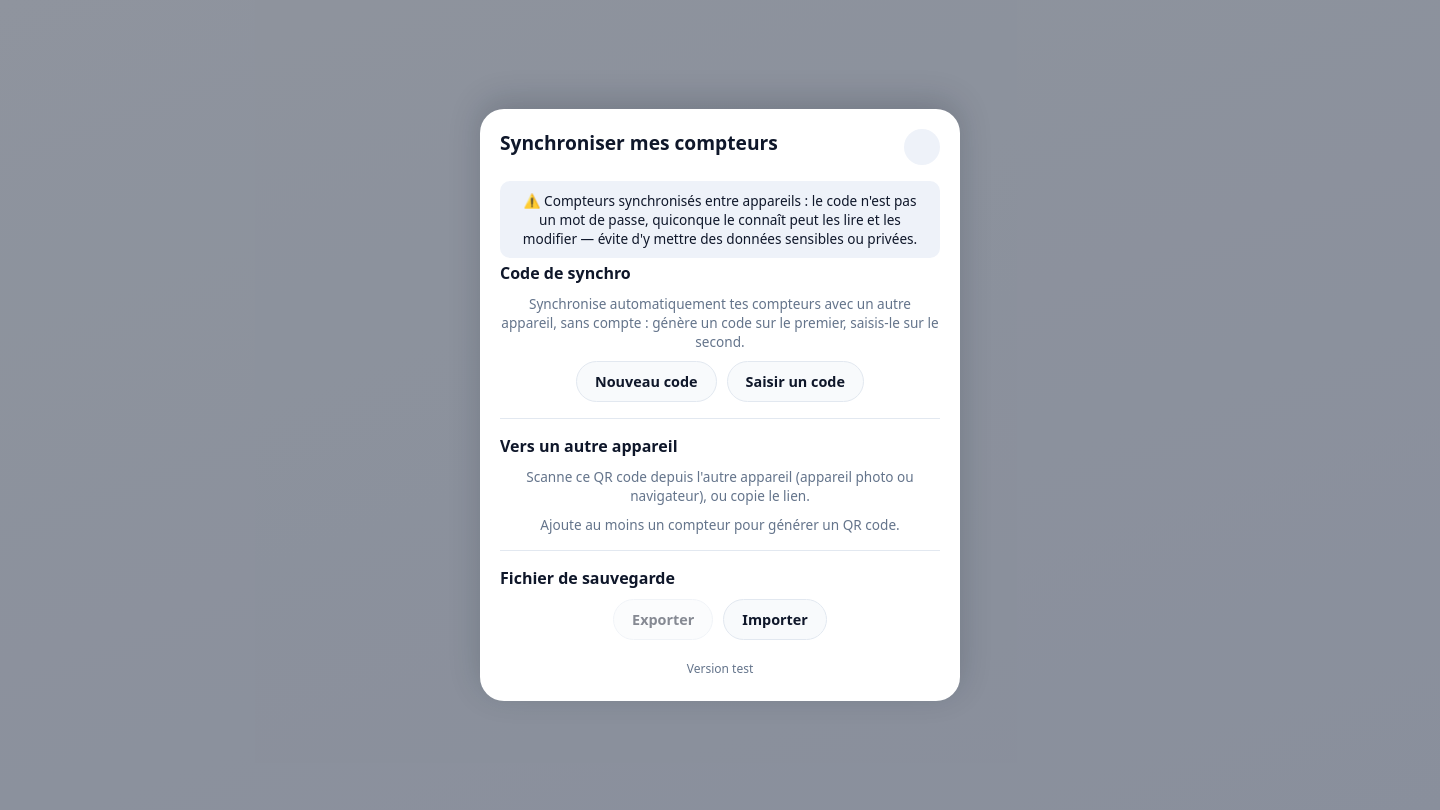
SyncPanel › code de synchro › avec un worker configuré (VITE_SYNC_WORKER_URL) › affiche une erreur adaptée pour l'issue "error"
Click the button "Saisir un code" at coordinates (795, 382), box [727,361,864,402]
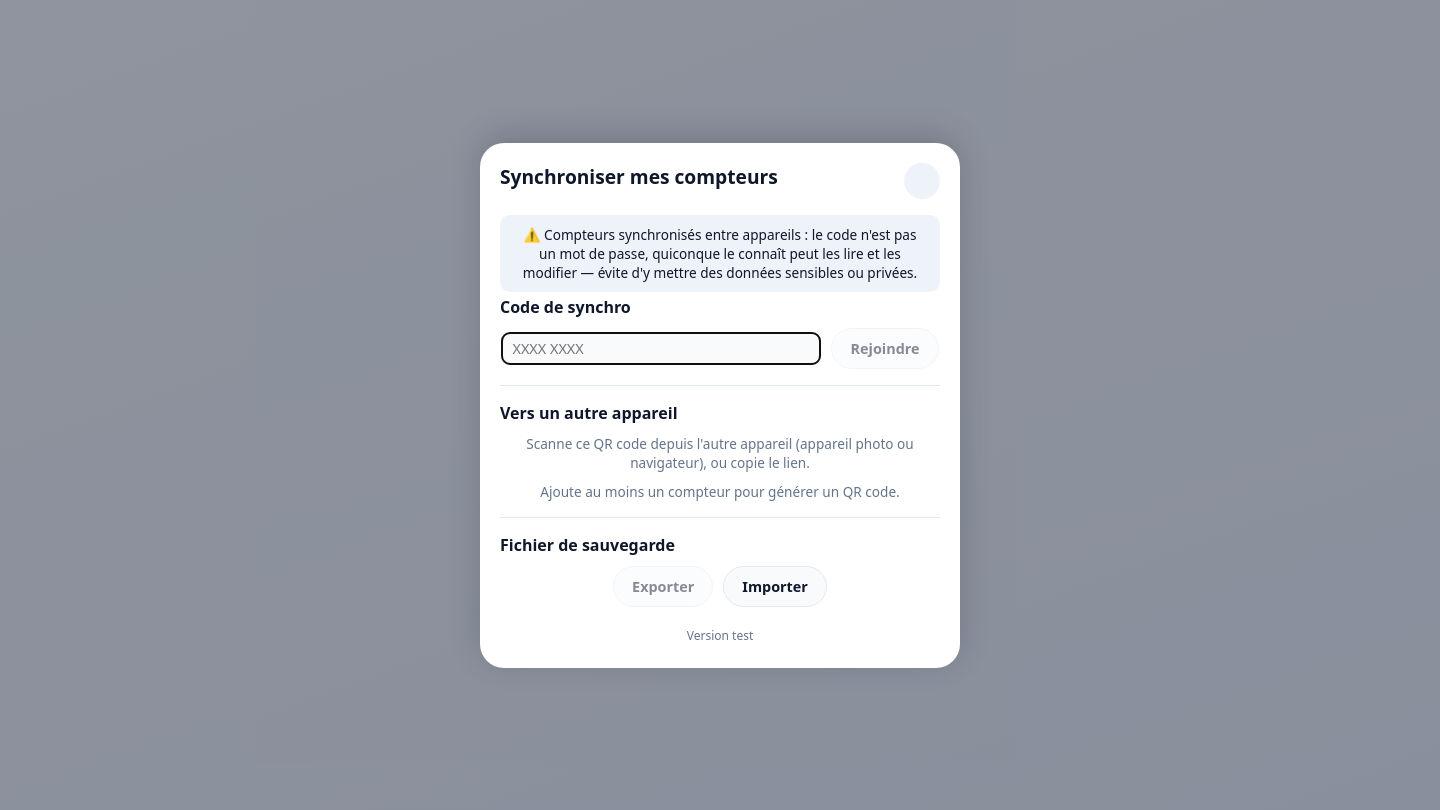
Type "ABCDEFGH" into the field with placeholder "XXXX XXXX" at coordinates (662, 348), box [502,332,822,364]
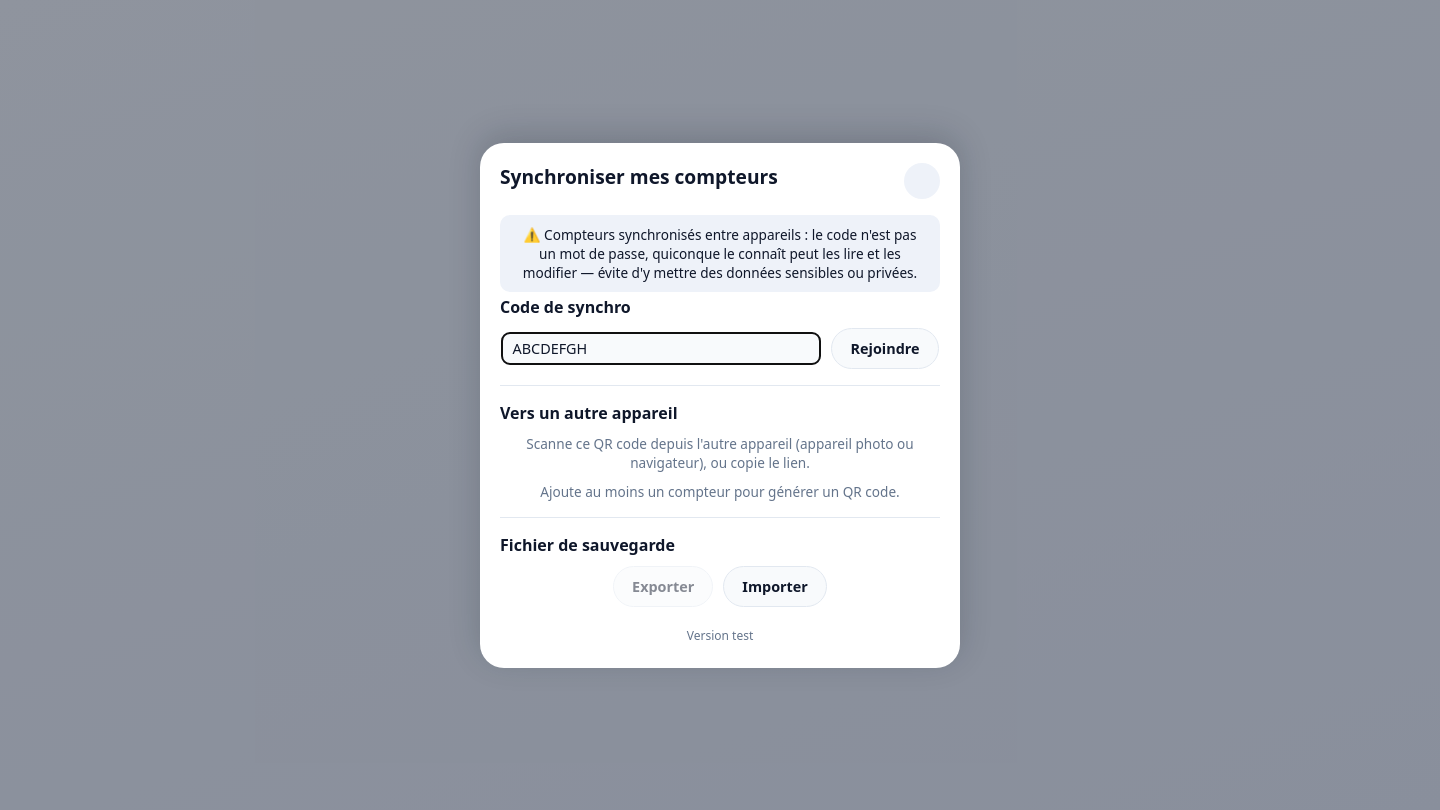
Click the button "Rejoindre" at coordinates (885, 348), box [832,328,938,368]
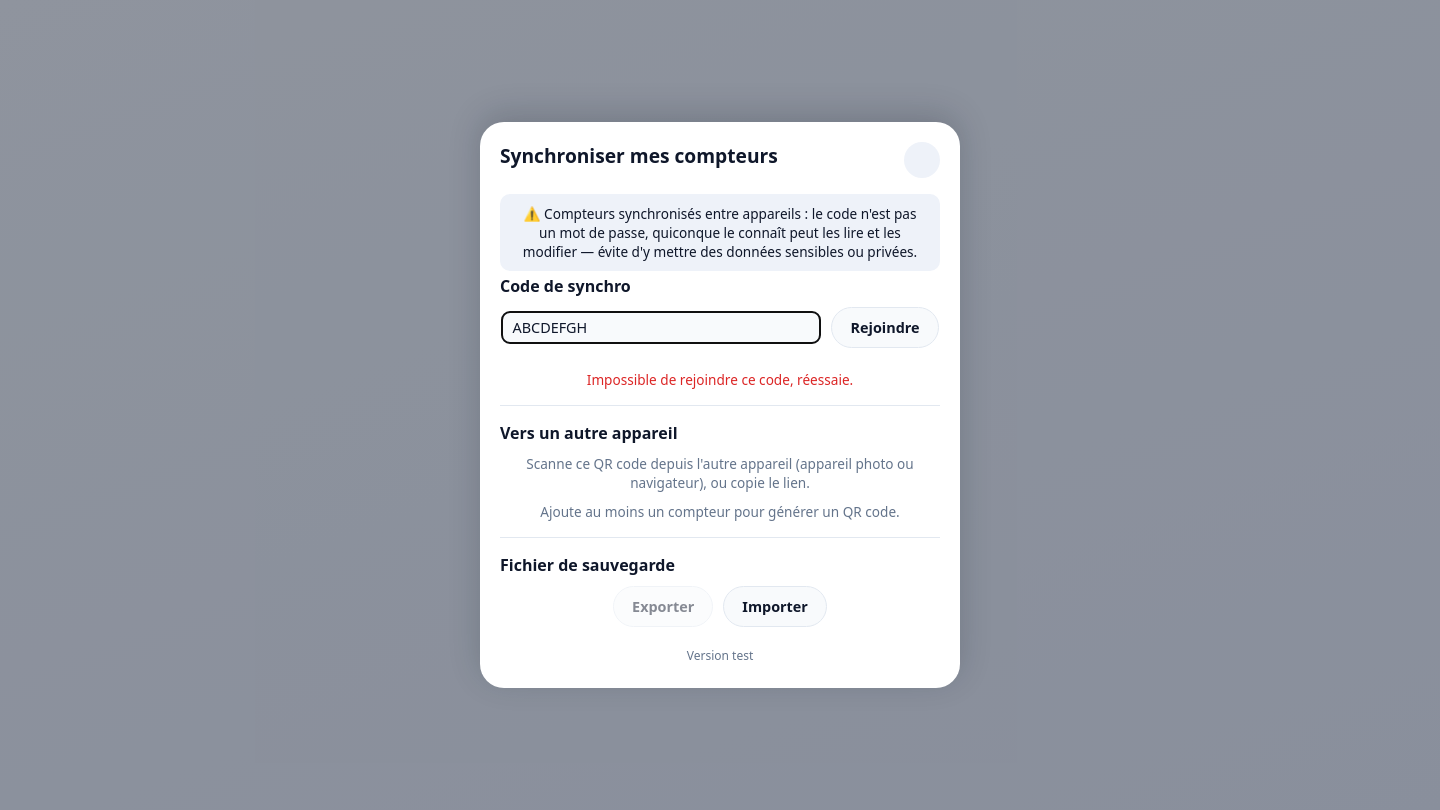
Expected: the text "Impossible de rejoindre ce code, réessaie." is shown, [587,370,853,389]
